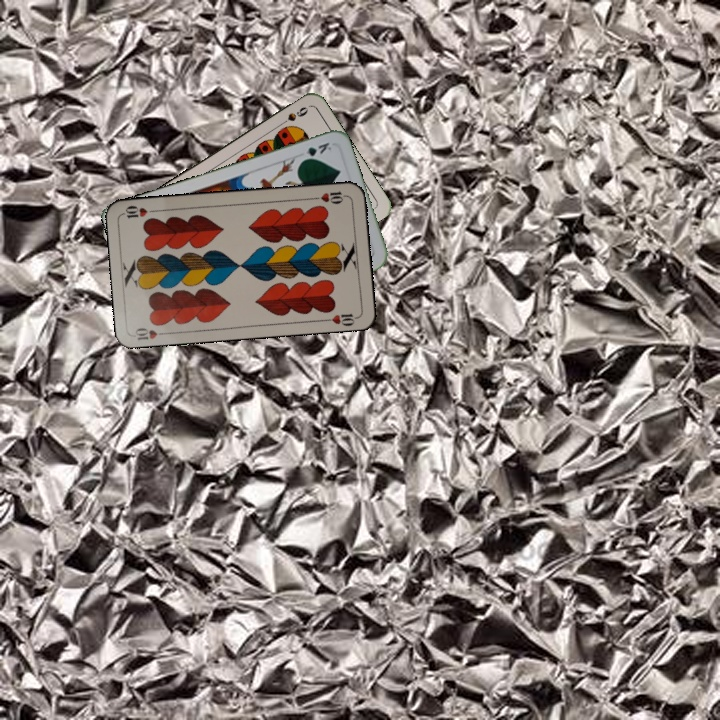GK: (297, 138, 335, 164)
H10: (309, 187, 349, 206), (130, 324, 171, 342)
S9: (274, 102, 311, 129)
